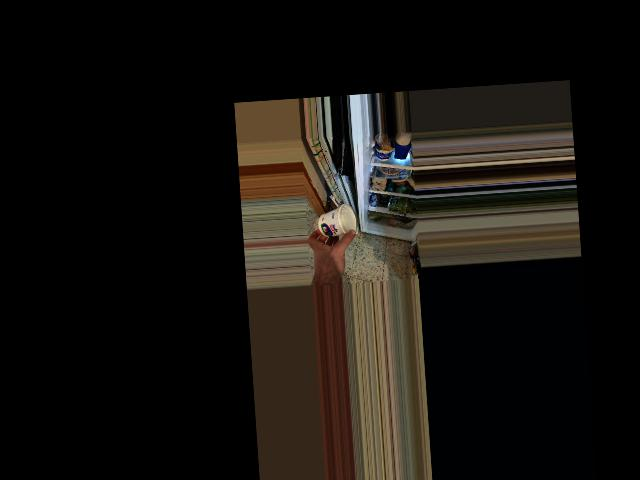cotage: (317, 205, 356, 240)
